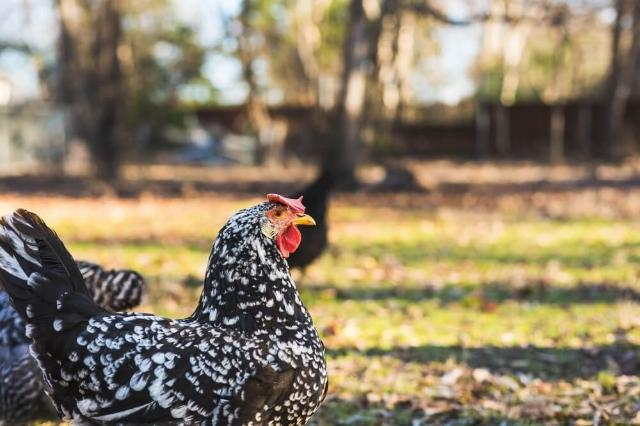Chicken: (0, 194, 328, 426)
